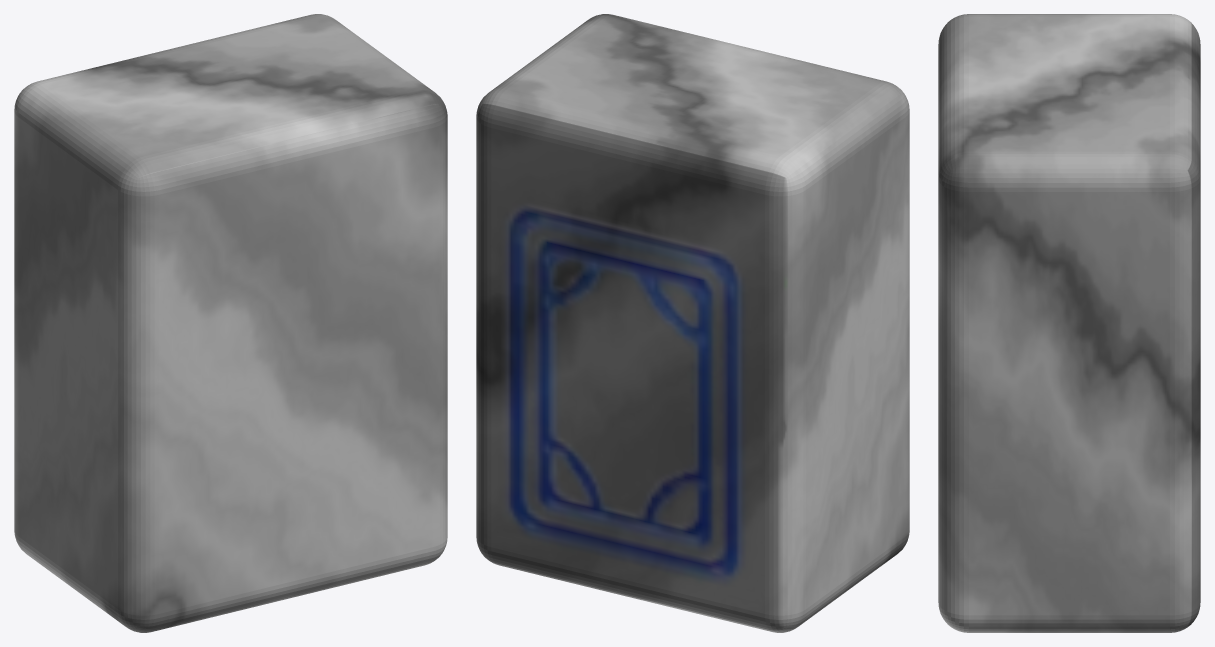
Rendered from honor7.fbx.
The picture shows the model from 3 angles, left to right: view 1: azimuth 30°, elevation 25°; view 2: azimuth 150°, elevation 25°; view 3: azimuth 270°, elevation 25°; orthographic projection.
Visible parts, largest first — view 1: honor7; view 2: honor7; view 3: honor7.
Part boxes in pixels (left/top/right/bottom): honor7: left=14, top=14, right=447, bottom=632; honor7: left=476, top=14, right=909, bottom=632; honor7: left=938, top=14, right=1200, bottom=632.
Bounding box in the file's own units: 100 × 139 × 69.
1 material, 1 textured.
